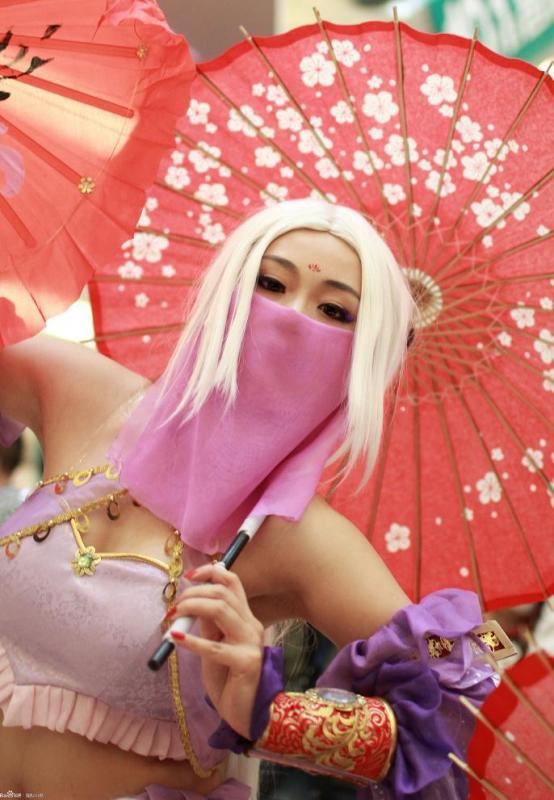OK: (228, 249, 381, 402)
